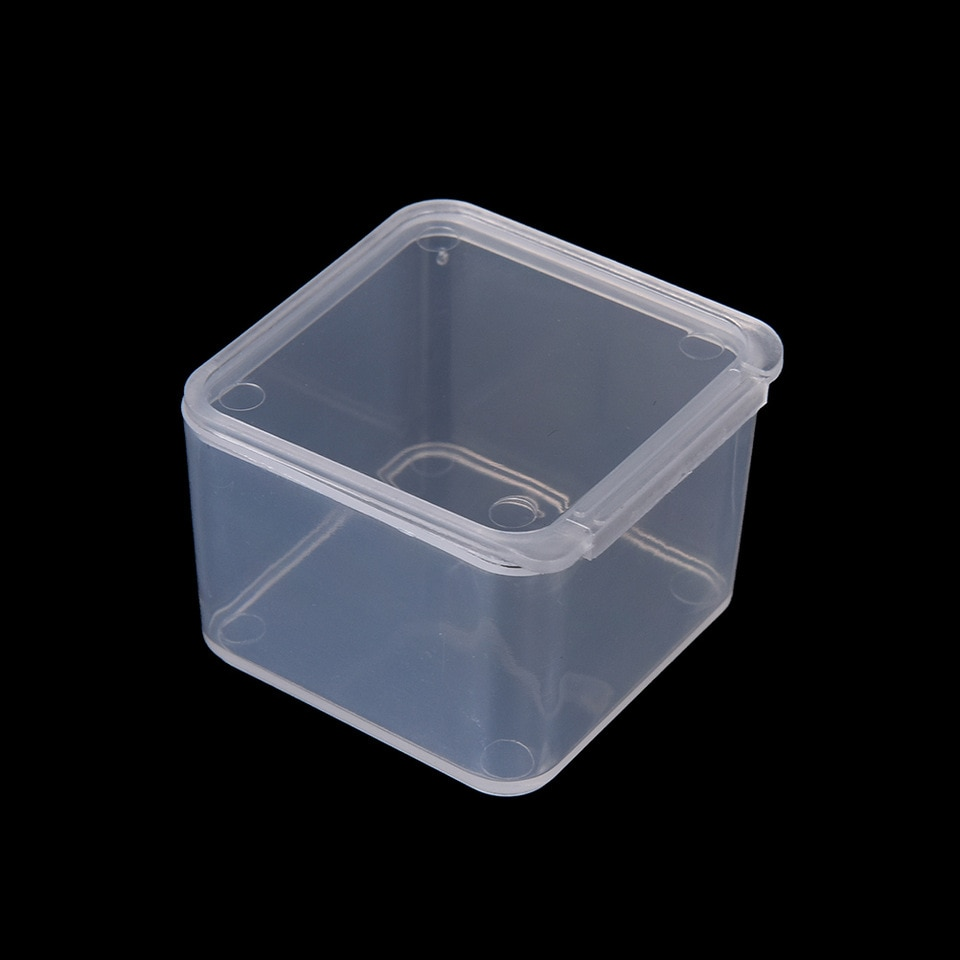PlasticBox: (168, 186, 793, 804)
